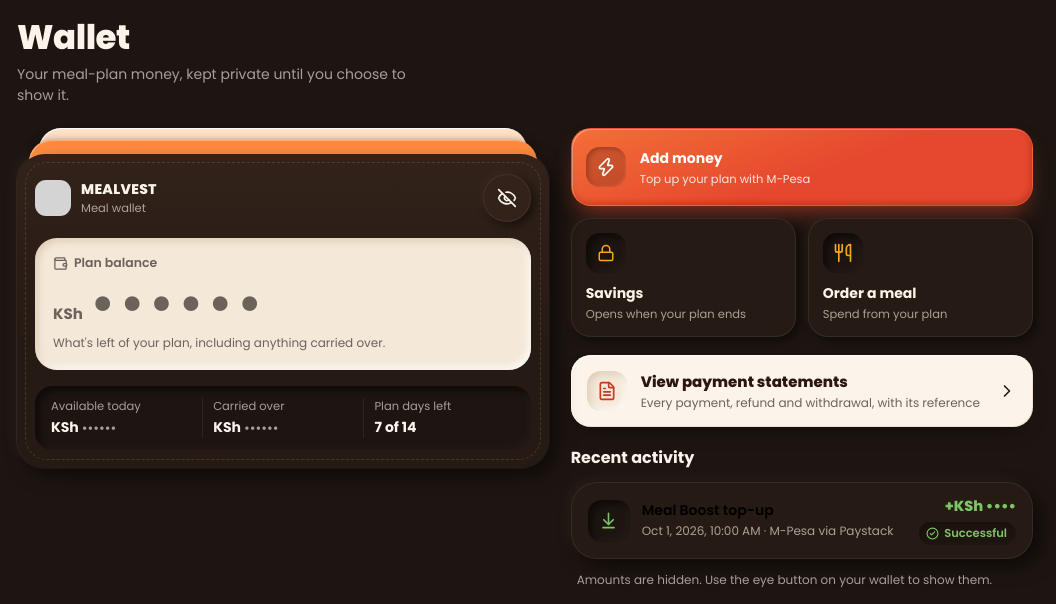
Wallet balance privacy › hides every monetary figure on open, reveals on request, and hides again
Expected: the text "2,450" is not shown
Expected: the text "KSh 75" is not shown
Click the button named "show wallet amounts" at (507, 198), box [483,174,531,222]
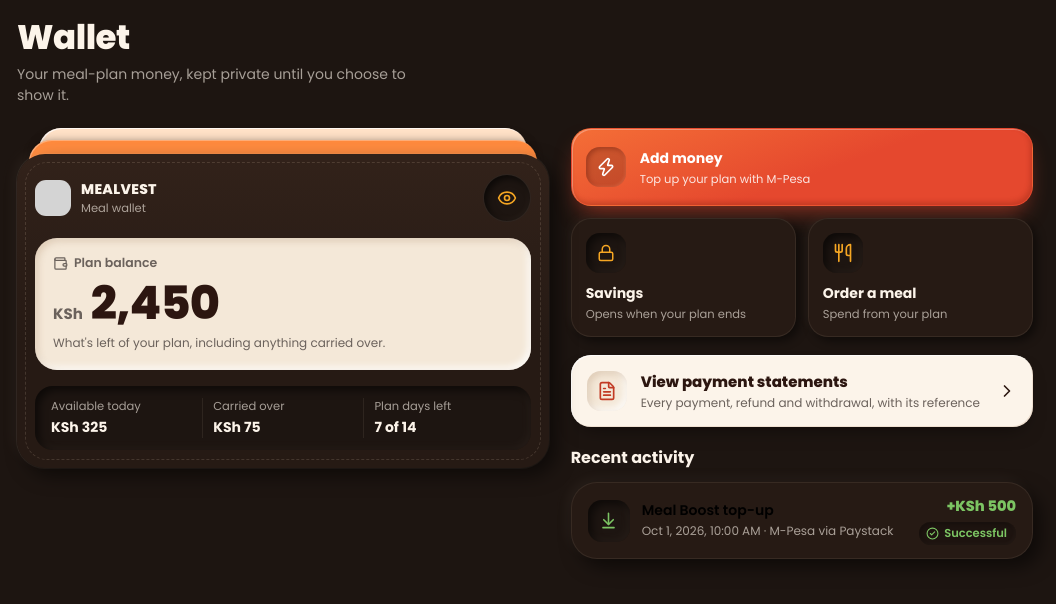
Result: the text "2,450" is shown at [91,271,219,335]
Result: the text "KSh 75" is shown at [213,417,261,437]
Result: the text "+KSh 500" is shown at [947,496,1016,517]
Click the button named "hide wallet amounts" at (507, 198), box [483,174,531,222]
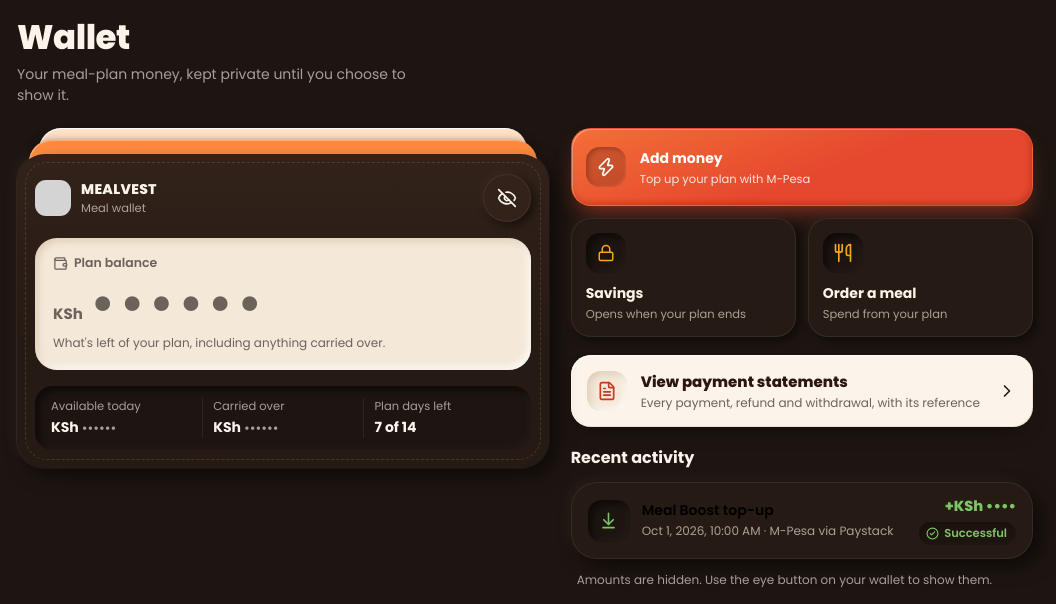
Result: the text "2,450" is gone
